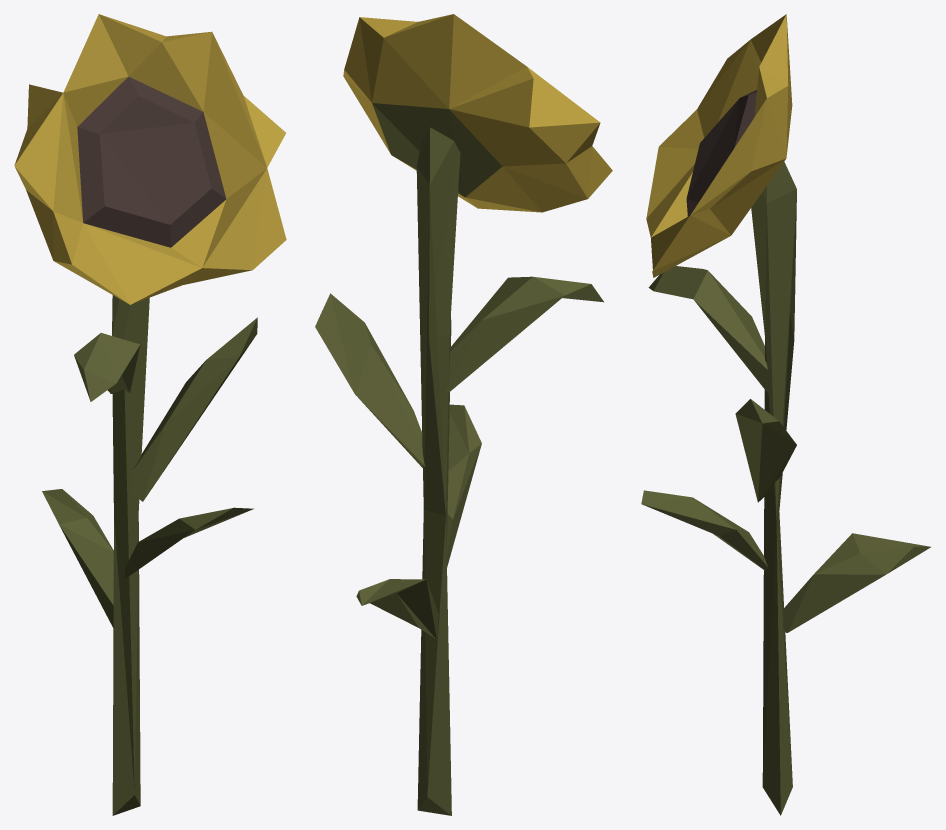
The model's file is SM_Env_Sunflower_01.glb.
3 renders of one model, left to right at view 1: azimuth 30°, elevation 25°; view 2: azimuth 150°, elevation 25°; view 3: azimuth 270°, elevation 25°, orthographic. The views are drawn at different scales.
Visible parts, largest first — view 1: SM_Env_Sunflower_01; view 2: SM_Env_Sunflower_01; view 3: SM_Env_Sunflower_01.
Boxes of the visible parts, box(x1,y1,x2,y2) form: SM_Env_Sunflower_01: box(14, 14, 286, 815); SM_Env_Sunflower_01: box(315, 14, 612, 815); SM_Env_Sunflower_01: box(641, 14, 930, 815).
Size of the model in its own units: 0.00542 by 0.0157 by 0.00529.
Materials: 1 (1 with a texture image).
